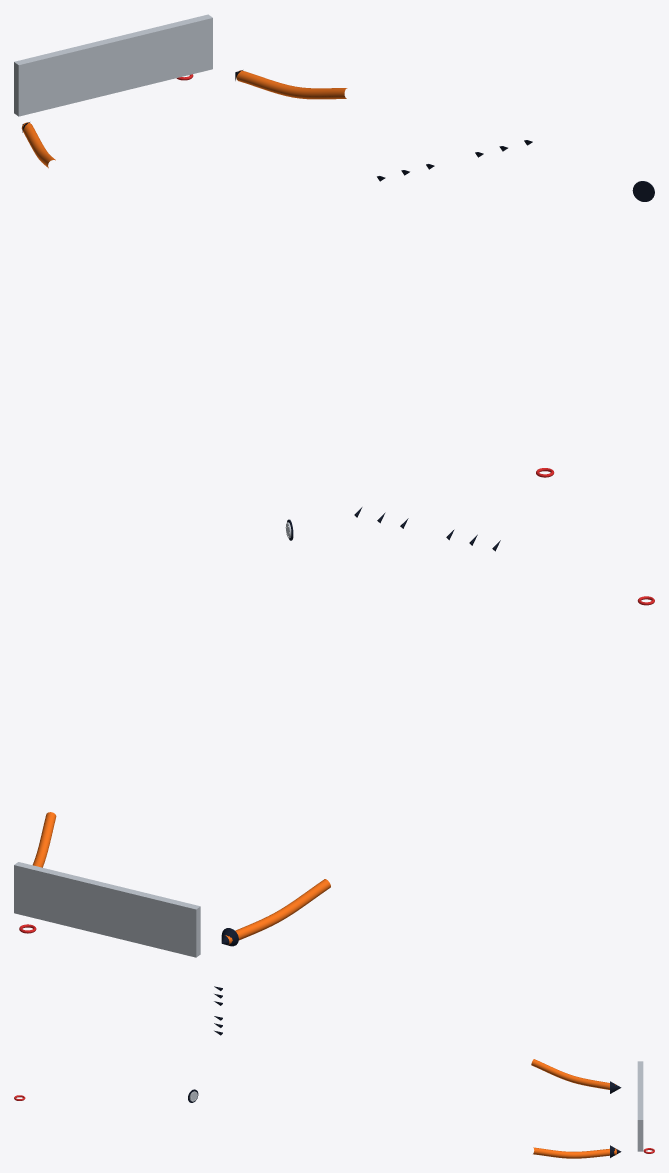
Rendered from racing_hardware.glb.
3 renders of one model, top to bottom at view 1: azimuth 30°, elevation 25°; view 2: azimuth 150°, elevation 25°; view 3: azimuth 270°, elevation 25°, orthographic. The views are drawn at different scales.
Visible parts, largest first — view 1: Exterior_Racing_Hardware_Assembly; view 2: Exterior_Racing_Hardware_Assembly; view 3: Exterior_Racing_Hardware_Assembly.
Part boxes in pixels (<box>): Exterior_Racing_Hardware_Assembly: <box>14,14,554,477</box>; Exterior_Racing_Hardware_Assembly: <box>14,596,654,957</box>; Exterior_Racing_Hardware_Assembly: <box>14,1059,654,1158</box>.
Bounding box in the file's own units: 1.6 × 0.9095 × 4.4.
